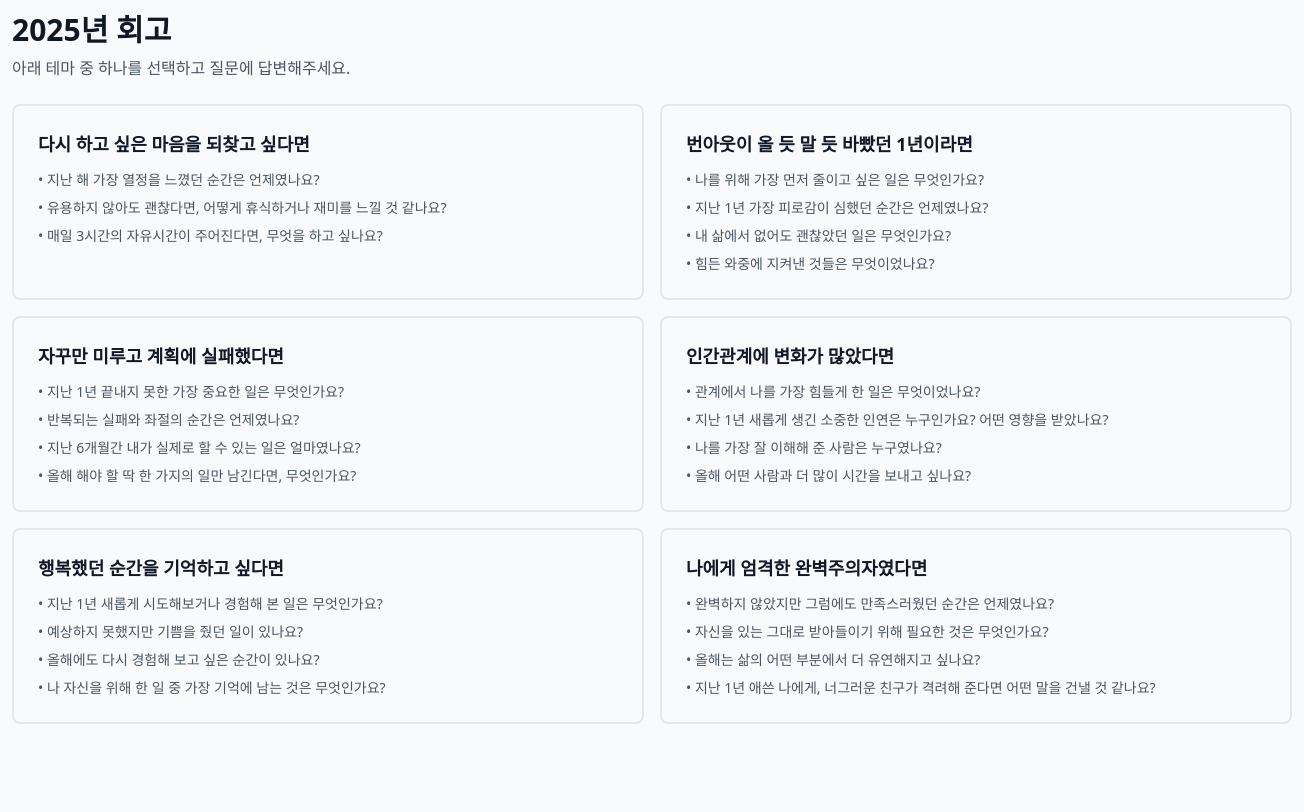
Test: Day1Reflection › Theme Selection › should select a theme when clicked
This screenshot has width=1304, height=812.
Click the heading "다시 하고 싶은 마음을 되찾고 싶다면": (174, 144) [38, 132, 310, 156]
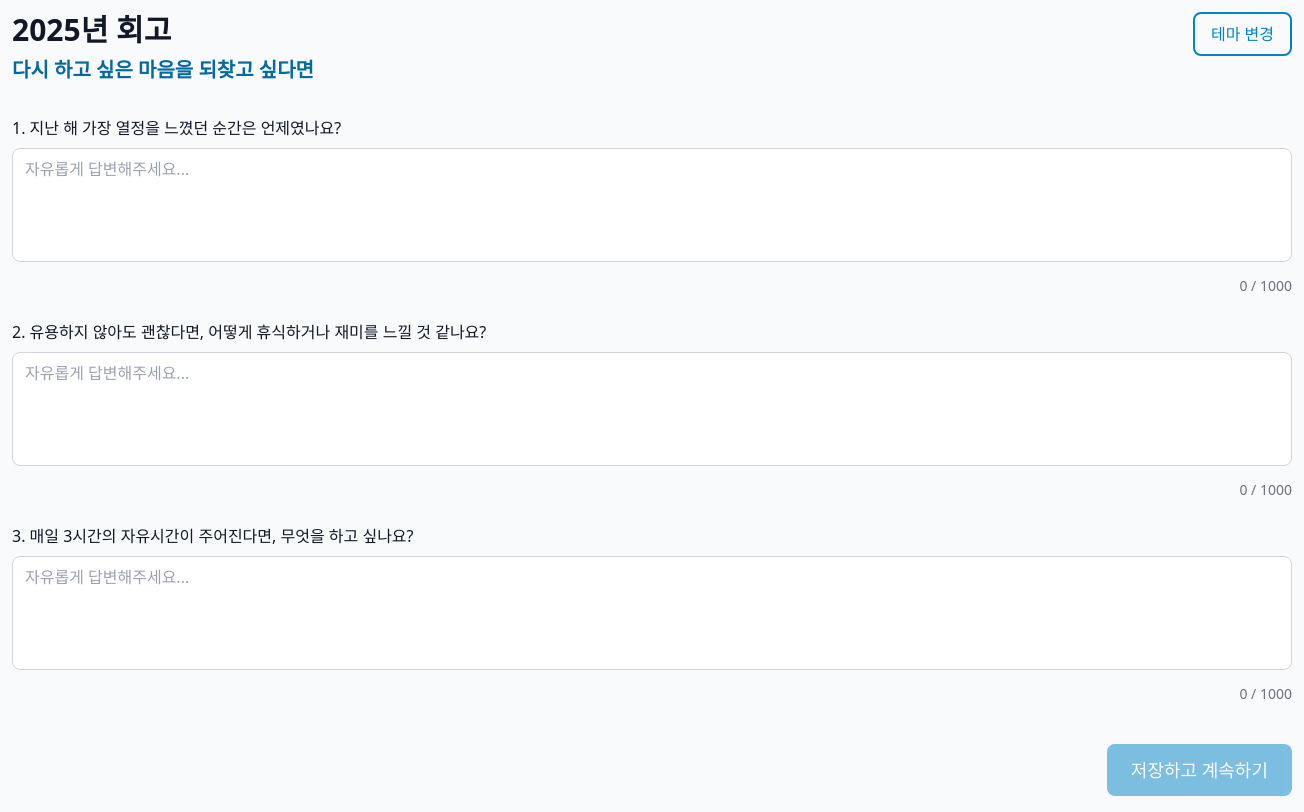
Expected: the heading "다시 하고 싶은 마음을 되찾고 싶다면" is shown, [12, 56, 314, 84]
Result: the number of text boxes is 3 at [12, 148, 1292, 262]; [12, 352, 1292, 466]; [12, 556, 1292, 670]
